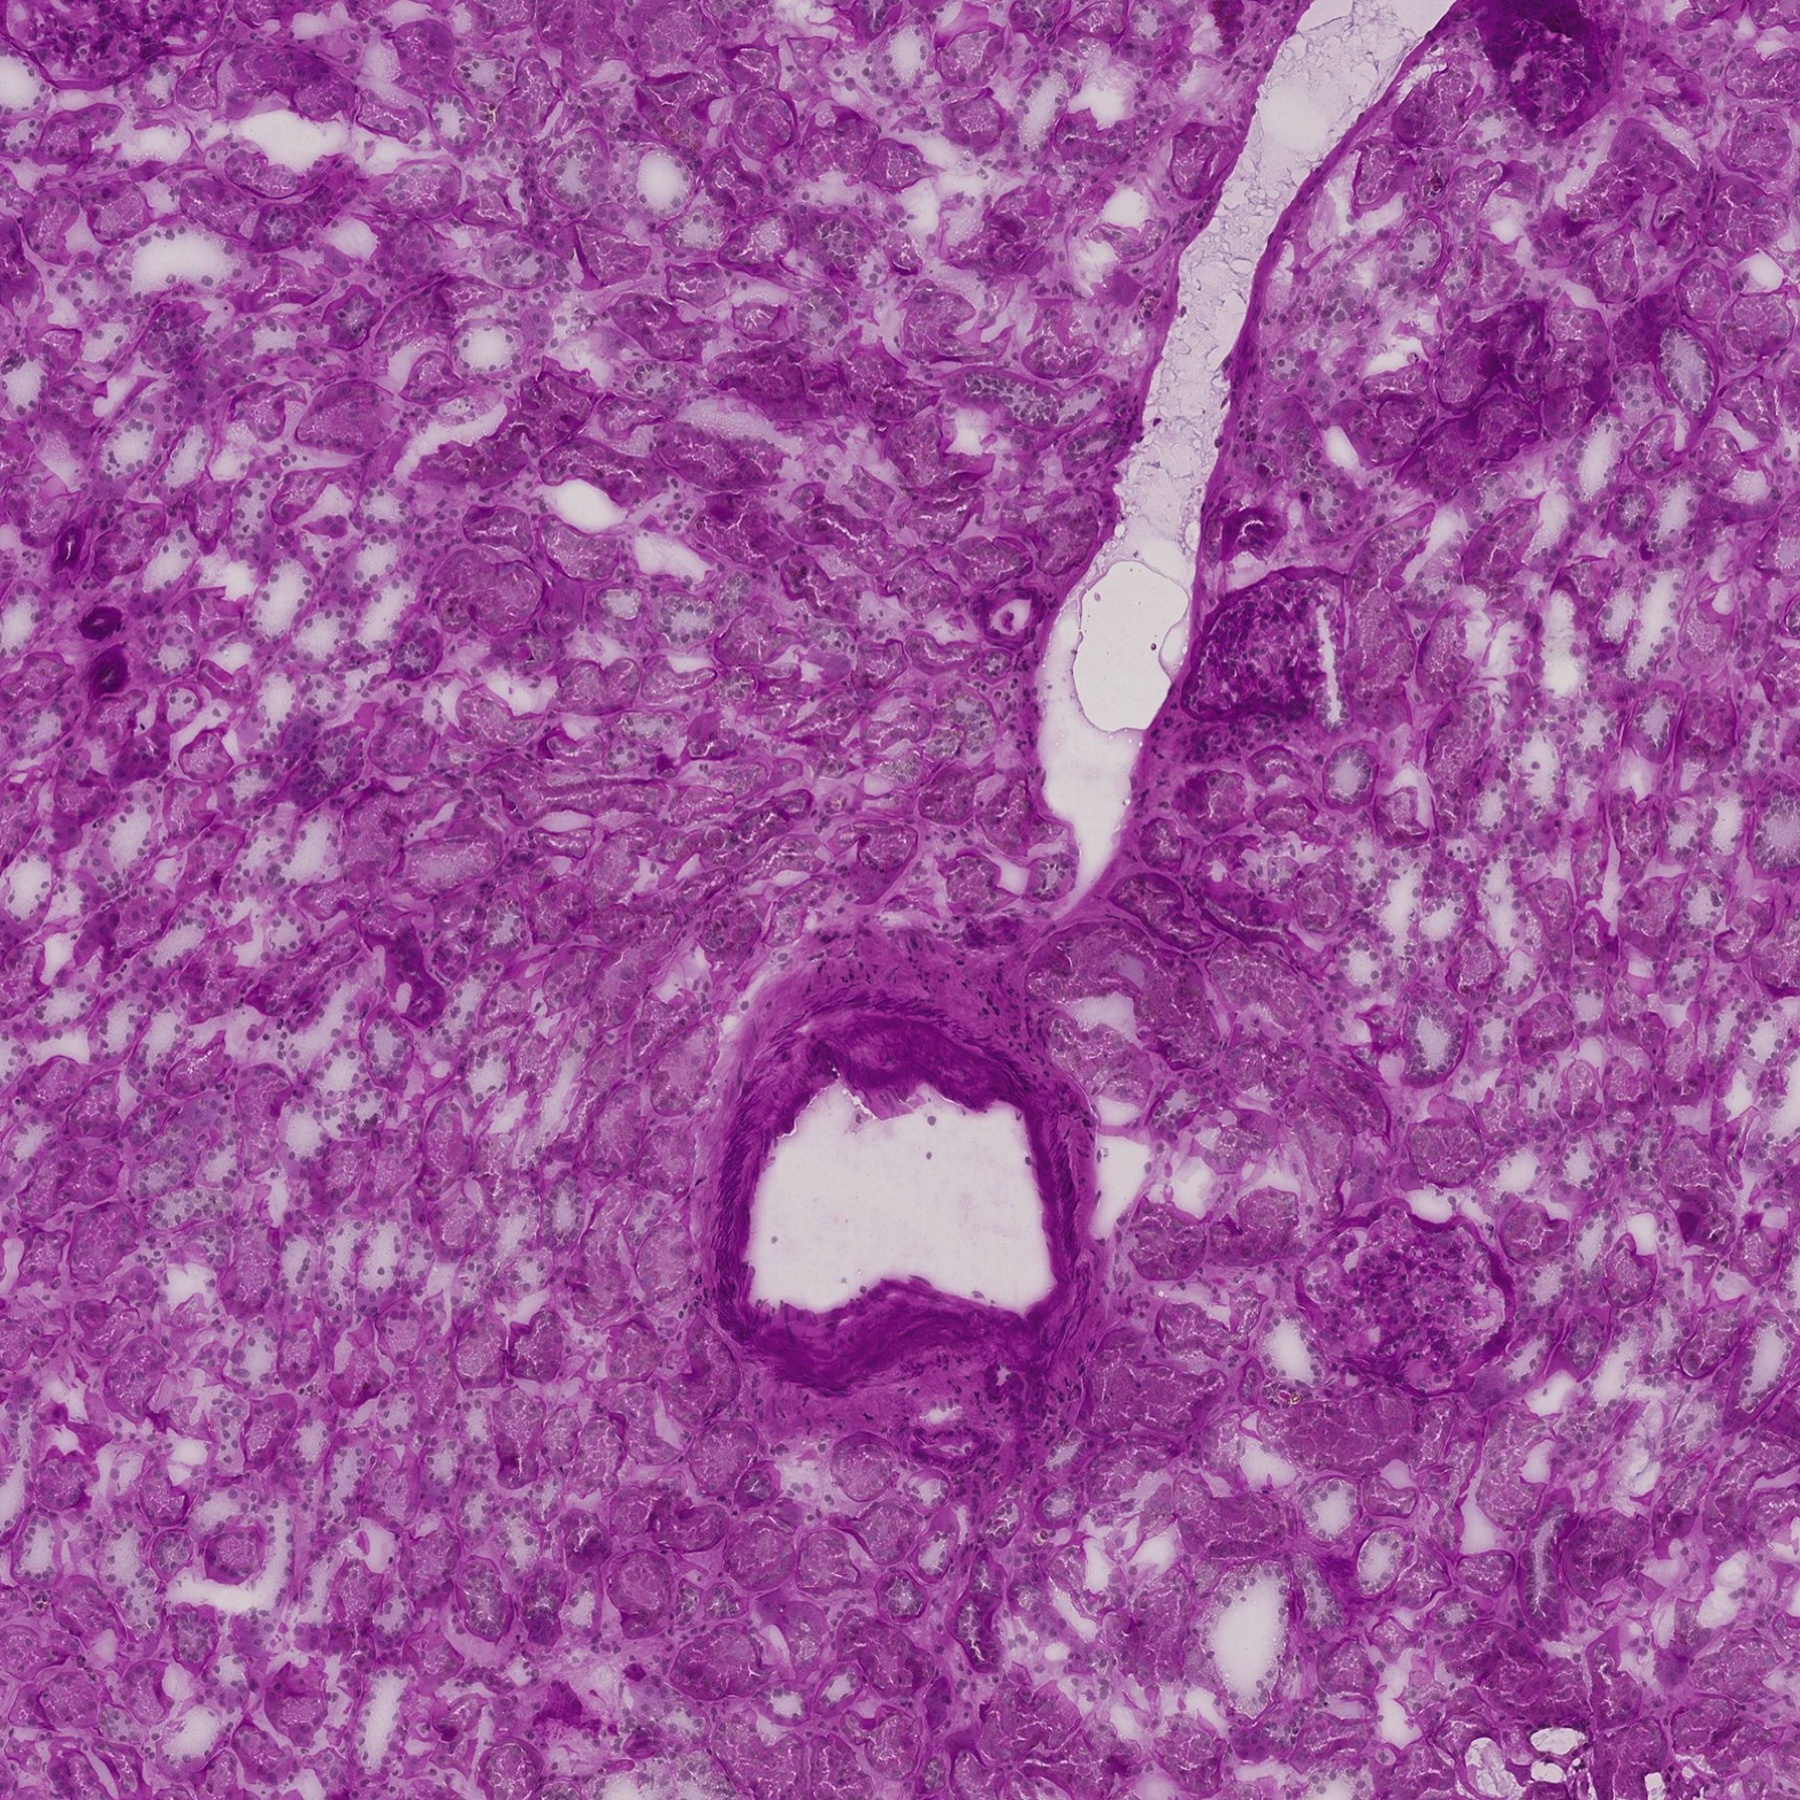Glomeruli: (1292, 1200, 1516, 1396), (1179, 564, 1423, 724), (2, 2, 231, 87)
